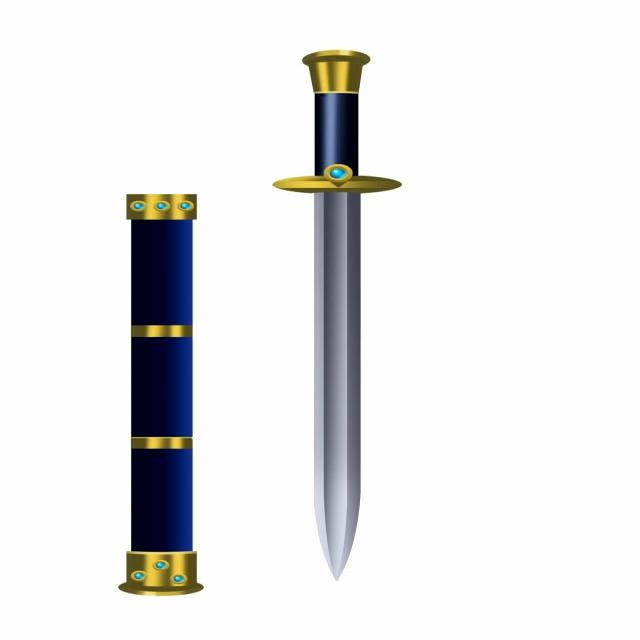long sword: (274, 48, 388, 581)
